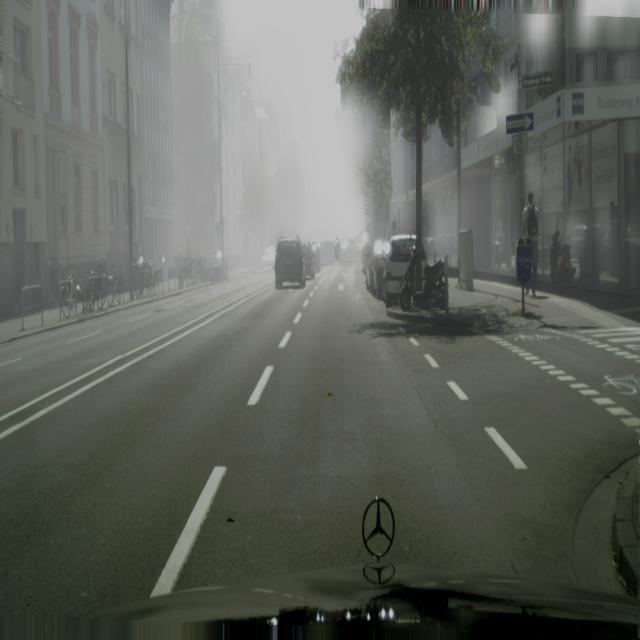bus: (400, 249, 446, 312)
car: (82, 257, 112, 314), (58, 260, 85, 318), (132, 240, 149, 306), (107, 256, 125, 314), (175, 250, 201, 289), (143, 249, 162, 301)
person: (521, 191, 539, 297)
truck: (551, 224, 603, 286), (382, 233, 422, 309), (274, 236, 306, 289), (368, 238, 391, 299), (202, 250, 227, 282), (301, 242, 316, 279), (339, 239, 355, 265), (320, 240, 335, 265), (262, 245, 276, 268), (311, 241, 322, 269)
